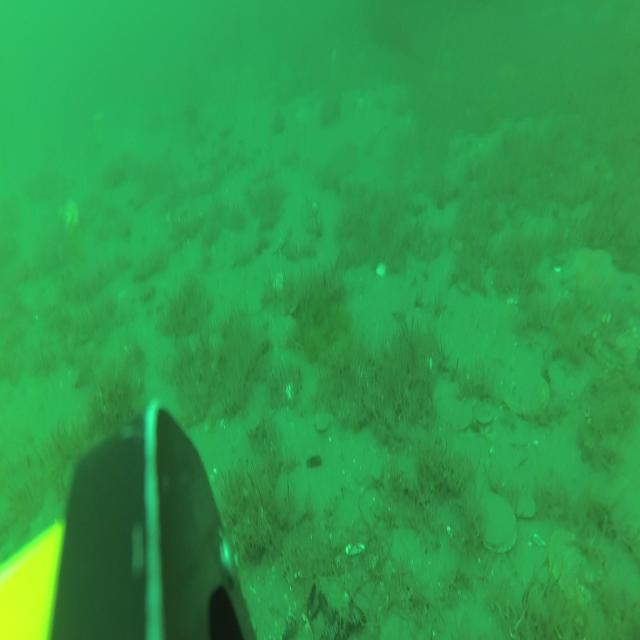scallop: (548, 526, 592, 605), (474, 490, 516, 554), (502, 365, 548, 418), (550, 364, 586, 403), (597, 334, 637, 368), (440, 394, 472, 429), (268, 316, 296, 349), (60, 198, 79, 233), (515, 496, 537, 520), (314, 412, 334, 434), (477, 408, 493, 425)
starfish: (565, 248, 617, 300)
